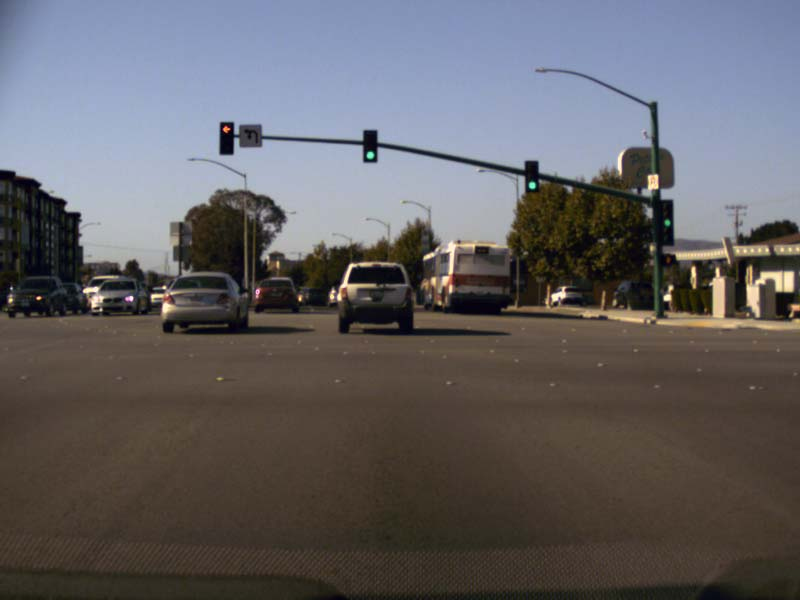Green: (659, 201, 673, 243), (363, 130, 376, 161), (525, 161, 538, 191)
Red: (220, 122, 232, 153)
